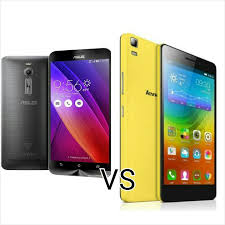asus: (45, 46, 112, 180)
lenovo: (117, 28, 218, 204), (153, 42, 216, 202)
